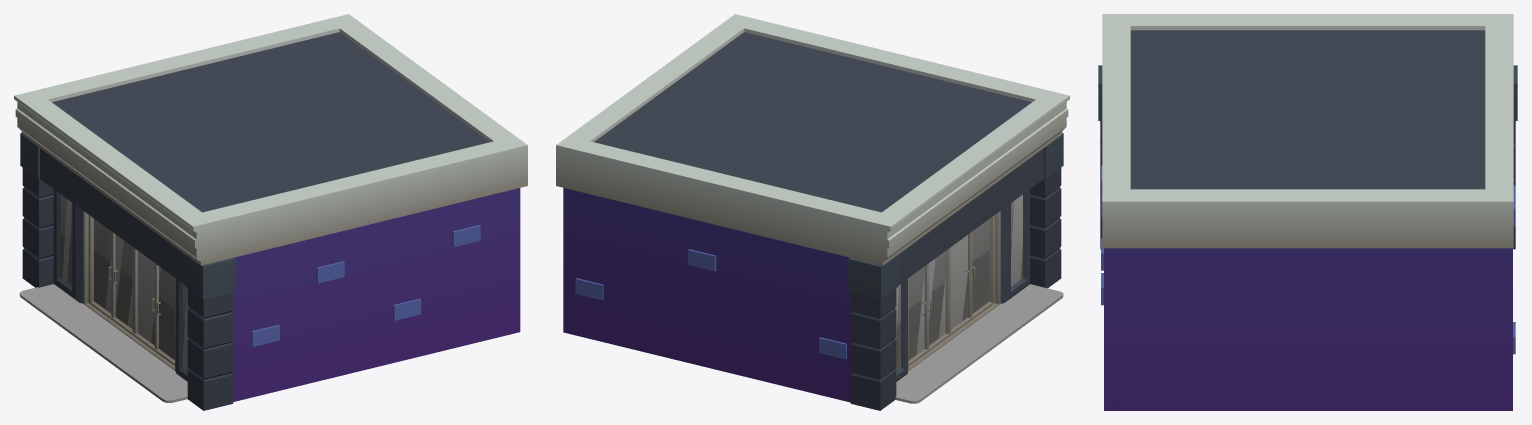
File: Building_21_5_D.fbx
The picture shows the model from 3 angles, left to right: view 1: azimuth 30°, elevation 25°; view 2: azimuth 150°, elevation 25°; view 3: azimuth 270°, elevation 25°; orthographic projection. The views are drawn at different scales.
Parts seen in each view (by area): view 1: Building_21_5_D; view 2: Building_21_5_D; view 3: Building_21_5_D.
Boxes of the visible parts, left/top/right/bottom form: Building_21_5_D: left=14, top=14, right=527, bottom=410; Building_21_5_D: left=556, top=14, right=1069, bottom=410; Building_21_5_D: left=1098, top=14, right=1517, bottom=410.
Size of the model in its own units: 779 by 400 by 713.
